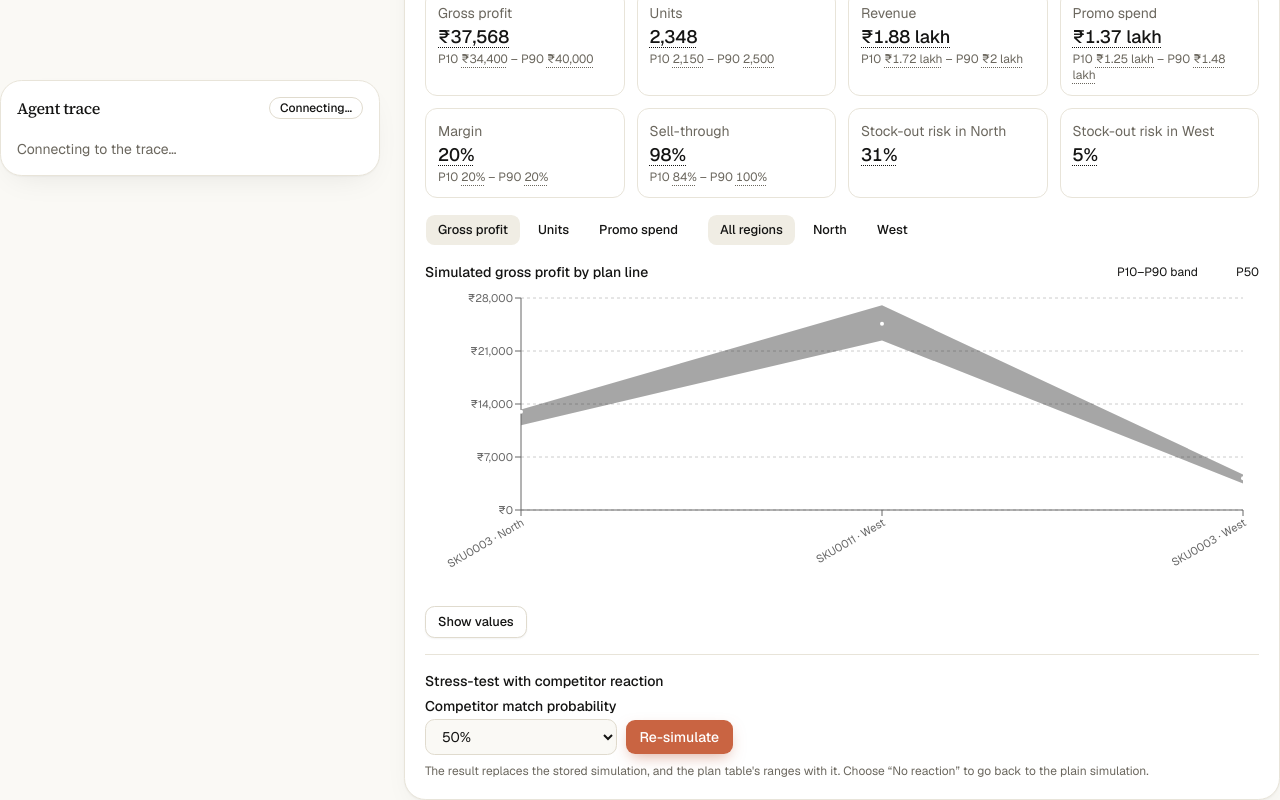
Test: SessionView › re-simulates with the competitor reaction and shows the stress test in place
The width and height of the screenshot is (1280, 800).
(page scrolled)
Click the button "Re-simulate".
click(679, 737)  # box x1=624 y1=719 x2=734 y2=755
(page scrolled)
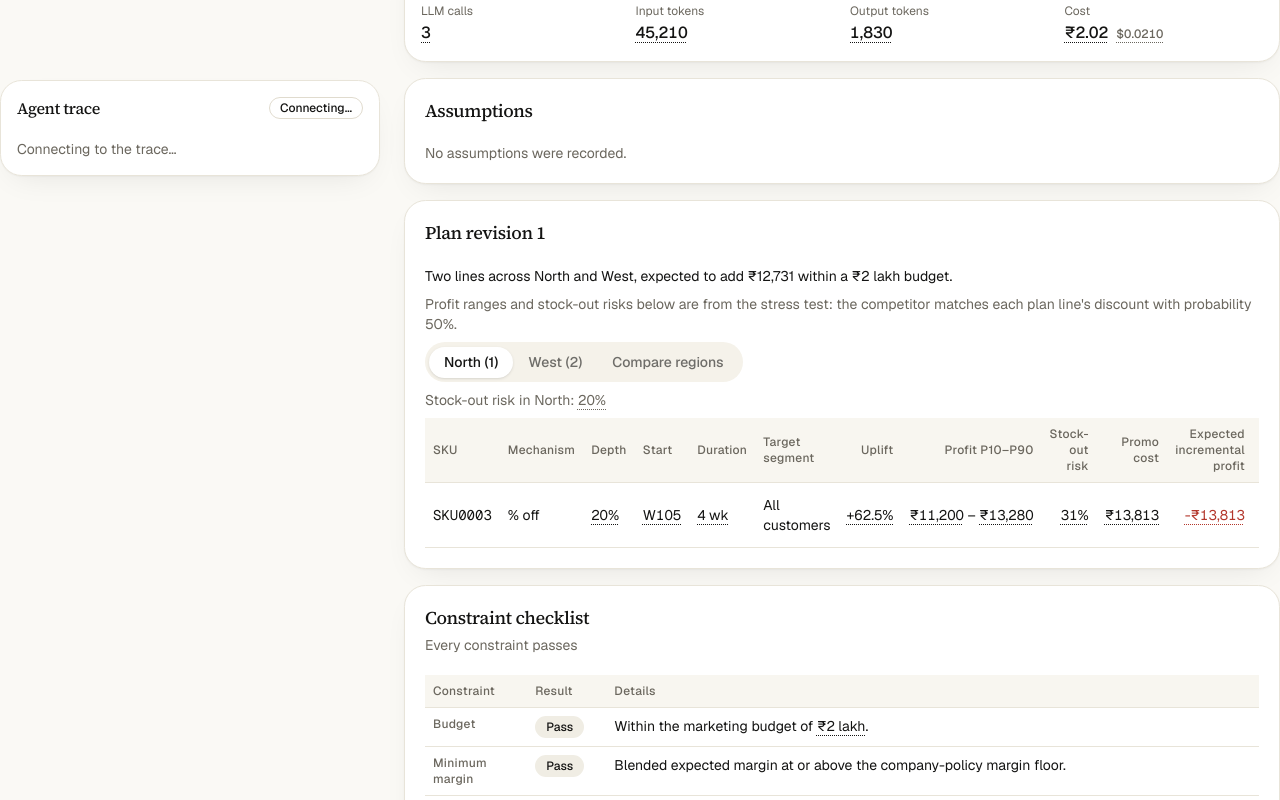
Result: the text "Stock-out risk in North: 20%" is shown at x1=425 y1=391 x2=606 y2=409
